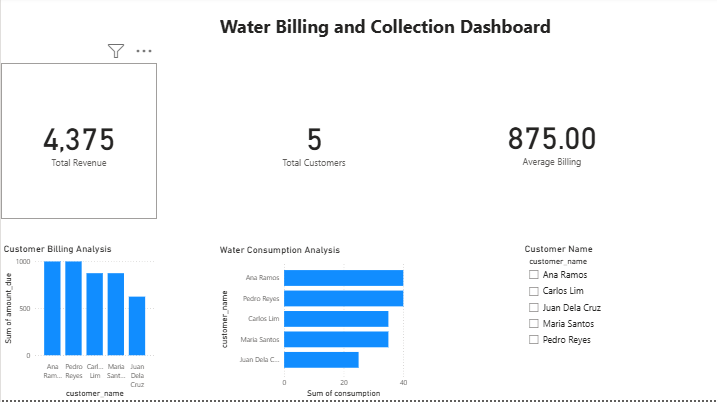

Layout of this report page (visuals, bound fields, positions):
{"tool":"powerbi","page":{"name":"Page 1","canvas":[1280,720],"ordinal":0},"visuals":[{"type":"card","fields":{"Values":["Sheet1.Total Revenue"]},"box":[0,118,278.9,278.9],"z":0},{"type":"card","fields":{"Values":["Sheet1.Total Customers"]},"box":[420.1,118,278.9,278.9],"z":1000},{"type":"card","fields":{"Values":["Sheet1.Average Billing"]},"box":[845.6,182.3,278.9,148.4],"z":2000},{"type":"clusteredColumnChart","title":"Customer Billing Analysis","fields":{"Category":["Sheet1.customer_name"],"Y":["Sum(Sheet1.amount_due)"]},"box":[0,439.8,278.9,280.7],"z":2001},{"type":"clusteredBarChart","title":"Water Consumption Analysis","fields":{"Category":["Sheet1.customer_name"],"Y":["Sum(Sheet1.consumption)"]},"box":[386.1,441.6,345,278.9],"z":2002},{"type":"slicer","title":"Customer Name","fields":{"Values":["Sheet1.customer_name"]},"box":[931.4,439.8,277.1,280.7],"z":2004},{"type":"textbox","box":[386.1,25,615,73.3],"z":2005}]}

Visuals, with their boxes in screenshot pixels (x1, y1, x2, y2), scaled from the page's 1280x720 canvas onto the 717x402 screenshot:
card - Sheet1.Total Revenue: (0, 66, 156, 222)
card - Sheet1.Total Customers: (235, 66, 392, 222)
card - Sheet1.Average Billing: (474, 102, 630, 185)
"Customer Billing Analysis" clusteredColumnChart: (0, 246, 156, 401)
"Water Consumption Analysis" clusteredBarChart: (216, 247, 410, 401)
"Customer Name" slicer: (522, 246, 677, 401)
textbox: (216, 14, 561, 55)
